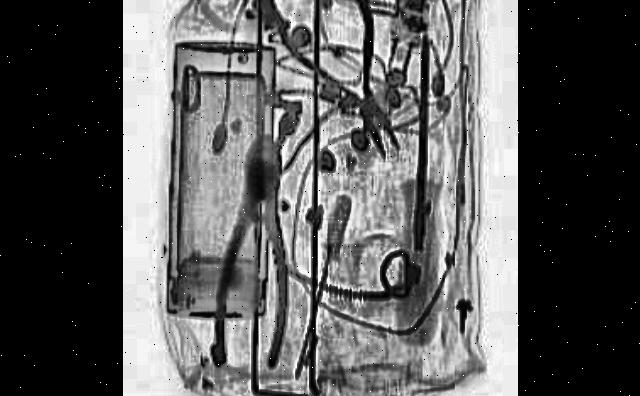Pliers: (271, 0, 419, 200), (207, 125, 297, 383)
